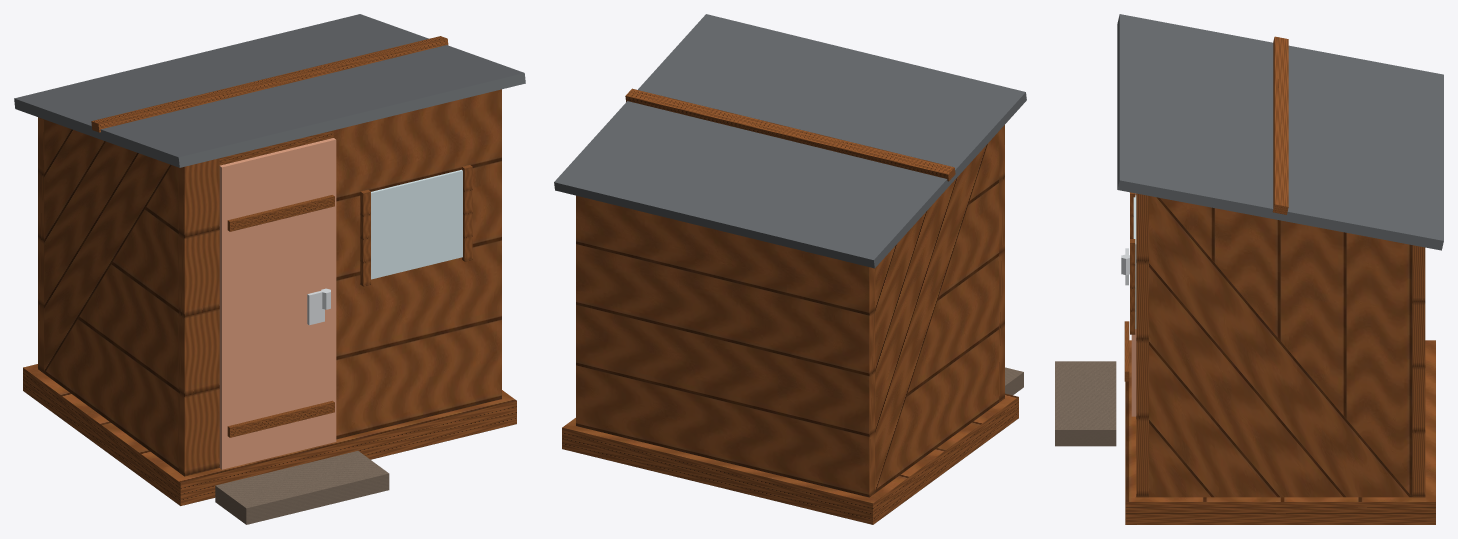
The model's file is allotments-and-community-garden-allotment-shed-307b0f03__35146.glb.
3 renders of one model, left to right at view 1: azimuth 30°, elevation 25°; view 2: azimuth 150°, elevation 25°; view 3: azimuth 270°, elevation 25°, orthographic. The views are drawn at different scales.
Visible parts, largest first — view 1: allotment-shed-timber, allotment-shed-charcoal, door/terracotta, allotment-shed-glass, allotment-shed-soil, door/timber, door/galv; view 2: allotment-shed-timber, allotment-shed-charcoal; view 3: allotment-shed-timber, allotment-shed-charcoal, allotment-shed-soil, door/terracotta.
Part boxes in pixels (x1,y1,x2,y2): allotment-shed-timber: (23, 36, 516, 505); allotment-shed-charcoal: (14, 14, 525, 167); door/terracotta: (219, 138, 336, 469); allotment-shed-glass: (371, 169, 462, 279); allotment-shed-soil: (215, 451, 389, 524); door/timber: (227, 195, 334, 437); door/galv: (307, 288, 330, 325); allotment-shed-timber: (562, 88, 1018, 524); allotment-shed-charcoal: (554, 14, 1026, 268); allotment-shed-timber: (1125, 36, 1435, 524); allotment-shed-charcoal: (1117, 14, 1443, 250); allotment-shed-soil: (1055, 361, 1116, 446); door/terracotta: (1131, 193, 1136, 416).
Bounding box in the file's own units: 2.2 × 2.12 × 2.15.
6 materials, 2 textured.
